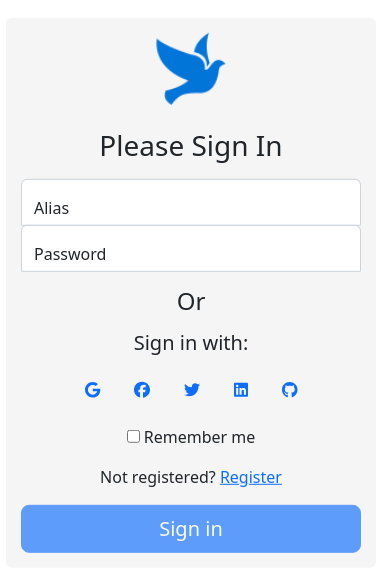
Test case: Login Component › Sign in button is enabled when alias and password are entered
Type "testAlias" into the field named "aliasInput". click: (191, 202)
box: top-left (21, 178), bottom-right (361, 225)
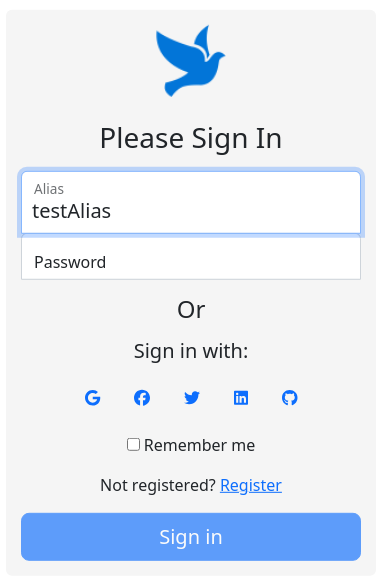
Type "testPassword" into the password field named "passwordInput". click: (191, 256)
box: top-left (21, 232), bottom-right (361, 279)
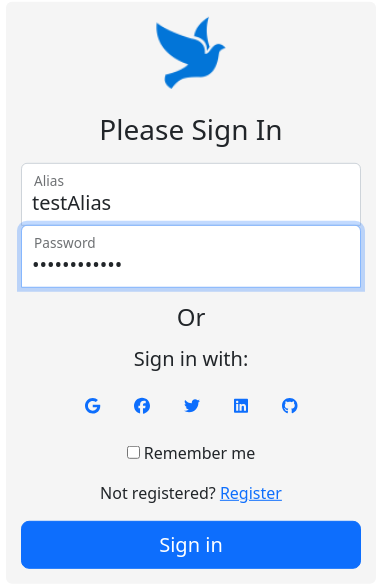
Check: the button "Sign in" is enabled, box top-left (21, 521), bottom-right (361, 569)
